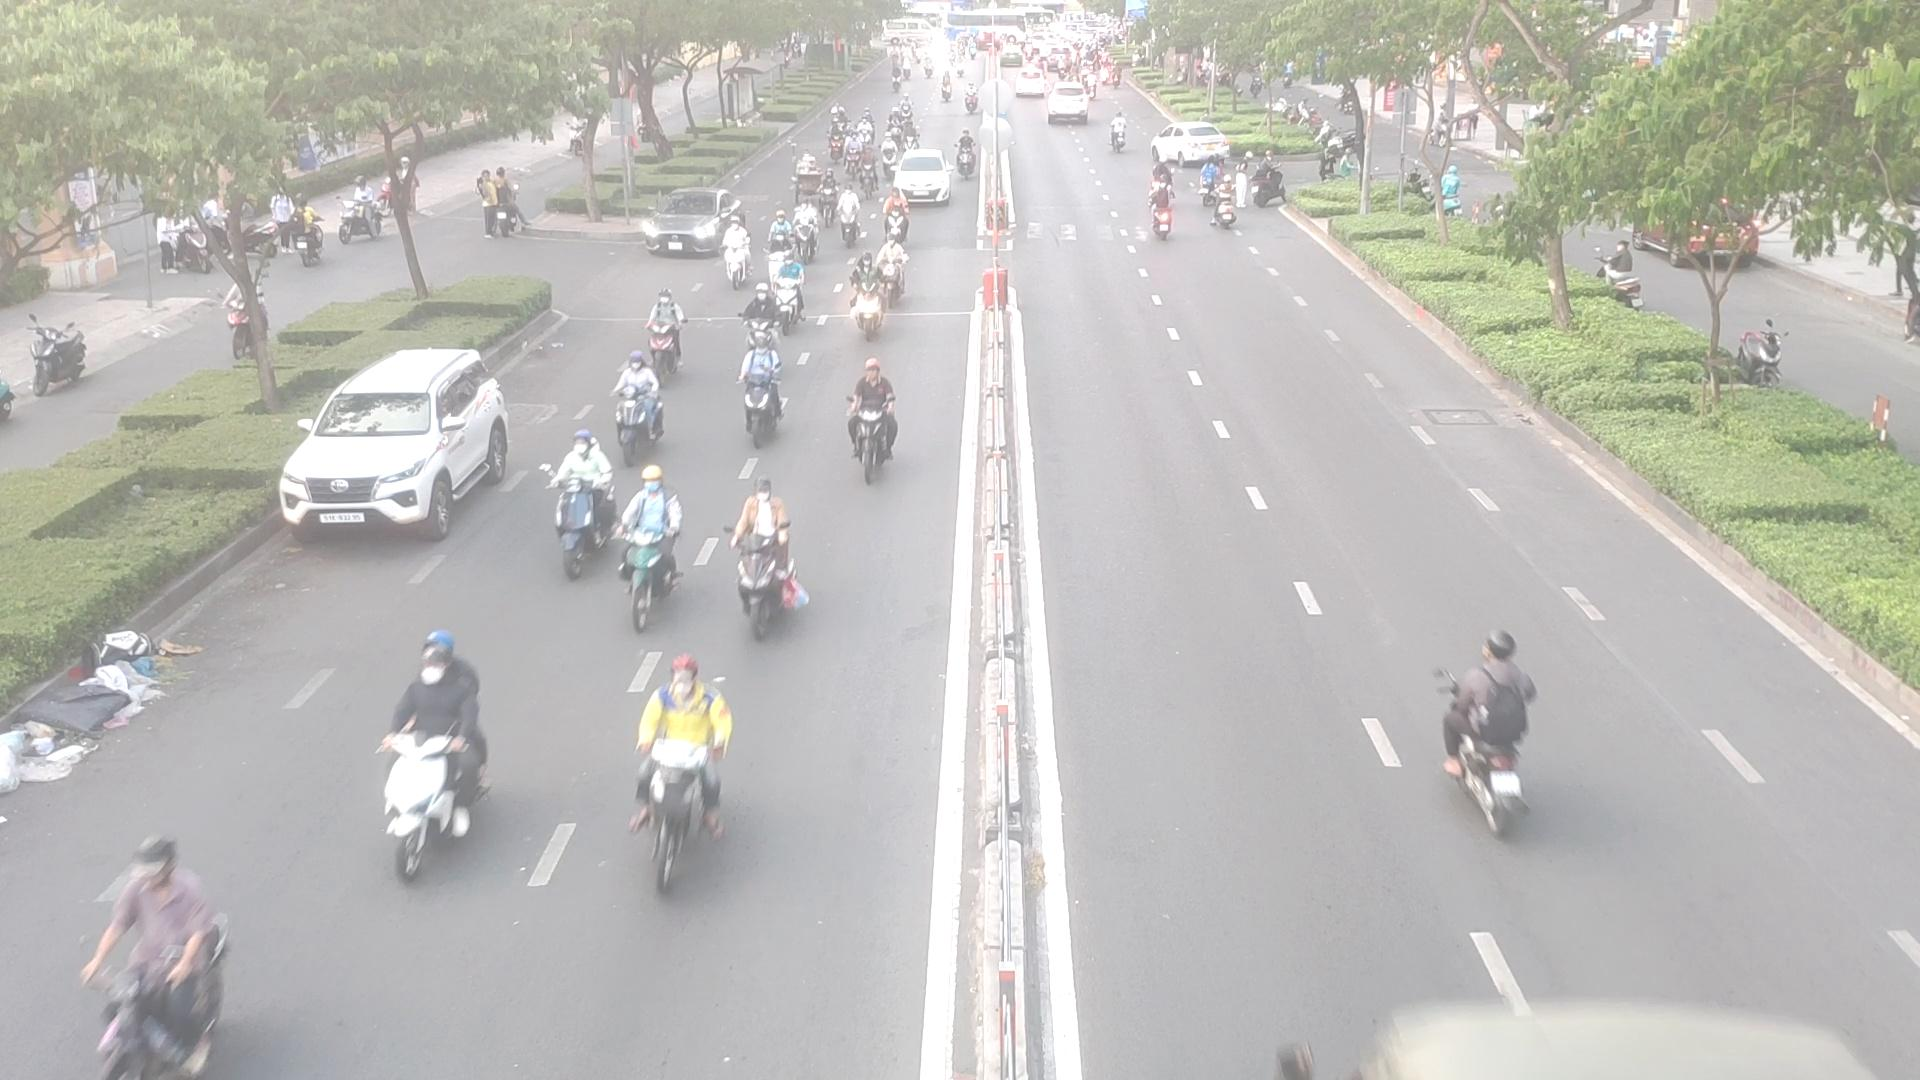car: (278, 345, 517, 539), (641, 187, 741, 260), (1151, 121, 1236, 166), (891, 150, 957, 204)
motorbike: (73, 839, 241, 1080), (1418, 613, 1556, 865), (388, 622, 487, 894), (641, 644, 705, 909), (622, 468, 694, 618), (736, 488, 789, 653), (555, 440, 597, 582), (851, 365, 894, 480), (618, 371, 665, 454), (740, 342, 778, 436), (845, 266, 886, 342), (653, 302, 684, 375), (779, 261, 808, 334), (1154, 175, 1174, 241), (723, 218, 742, 280), (816, 171, 837, 229), (882, 240, 901, 301), (884, 198, 907, 243), (796, 208, 818, 257), (1218, 174, 1236, 233), (957, 137, 978, 183), (841, 194, 858, 244), (861, 149, 877, 196), (878, 132, 897, 171), (1200, 157, 1215, 200), (845, 135, 858, 171), (829, 124, 843, 161), (857, 120, 873, 150), (901, 127, 916, 154)
